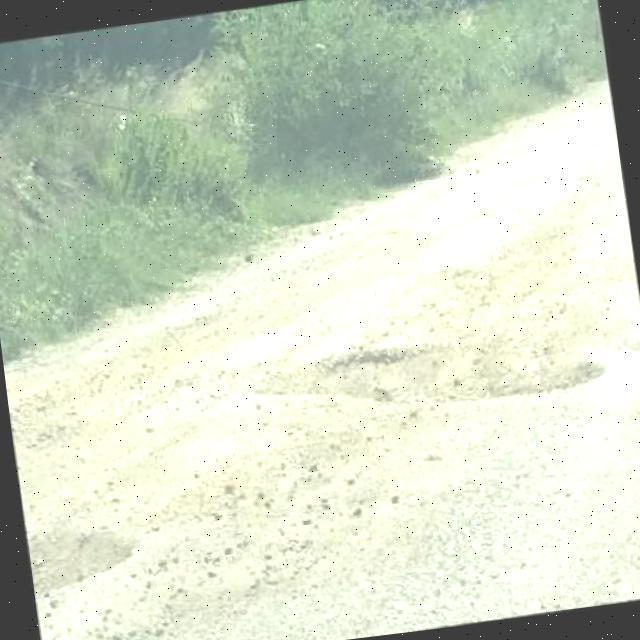Pothole: (265, 337, 607, 404), (27, 532, 137, 595)
